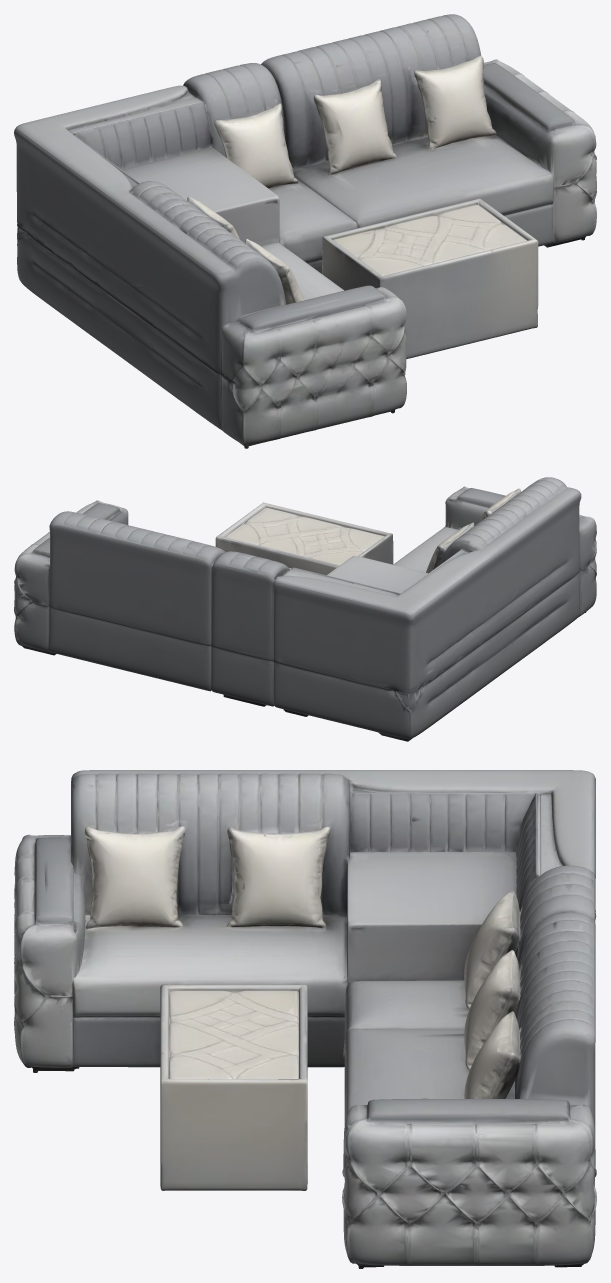
Rendered from sofa2.glb.
3 renders of one model, top to bottom at view 1: azimuth 30°, elevation 25°; view 2: azimuth 150°, elevation 25°; view 3: azimuth 270°, elevation 25°, orthographic. The views are drawn at different scales.
Parts seen in each view (by area): view 1: node_0; view 2: node_0; view 3: node_0.
Boxes of the visible parts, x1,y1,x2,y2 form: node_0: [14, 14, 596, 448]; node_0: [14, 477, 596, 741]; node_0: [14, 770, 596, 1268].
Bounding box in the file's own units: 0.9196 × 0.3099 × 0.7478.
1 material, 1 textured.
